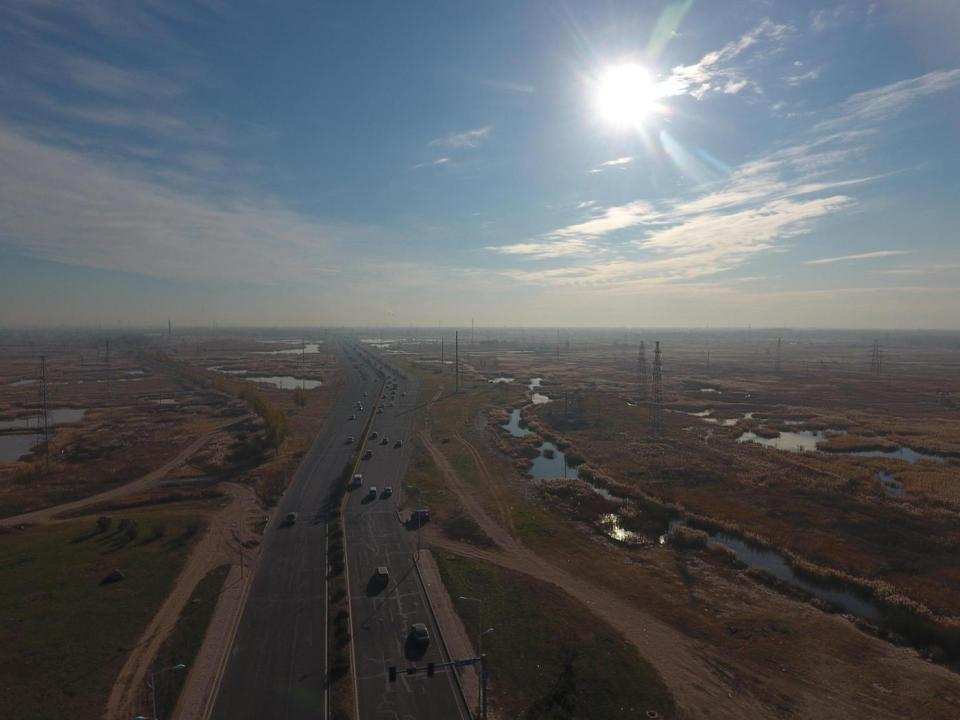car: (411, 623, 429, 645), (374, 566, 390, 586), (285, 512, 298, 524), (384, 486, 392, 497), (744, 395, 756, 399), (347, 437, 353, 444), (396, 440, 402, 447), (372, 431, 378, 438), (382, 438, 388, 444), (350, 414, 355, 420), (378, 408, 383, 413), (380, 403, 385, 408), (358, 406, 363, 410), (390, 402, 394, 406), (382, 394, 386, 398), (363, 393, 367, 397), (402, 392, 406, 396), (392, 390, 396, 394), (387, 375, 391, 378), (380, 366, 383, 369), (374, 379, 378, 381), (387, 385, 389, 388), (389, 381, 391, 383), (374, 364, 376, 366), (375, 362, 377, 364)
truck: (392, 382, 398, 388)
van: (410, 509, 430, 520), (352, 473, 363, 487), (369, 486, 376, 498), (366, 450, 373, 458), (356, 401, 361, 407), (391, 395, 394, 400), (393, 377, 396, 381)
